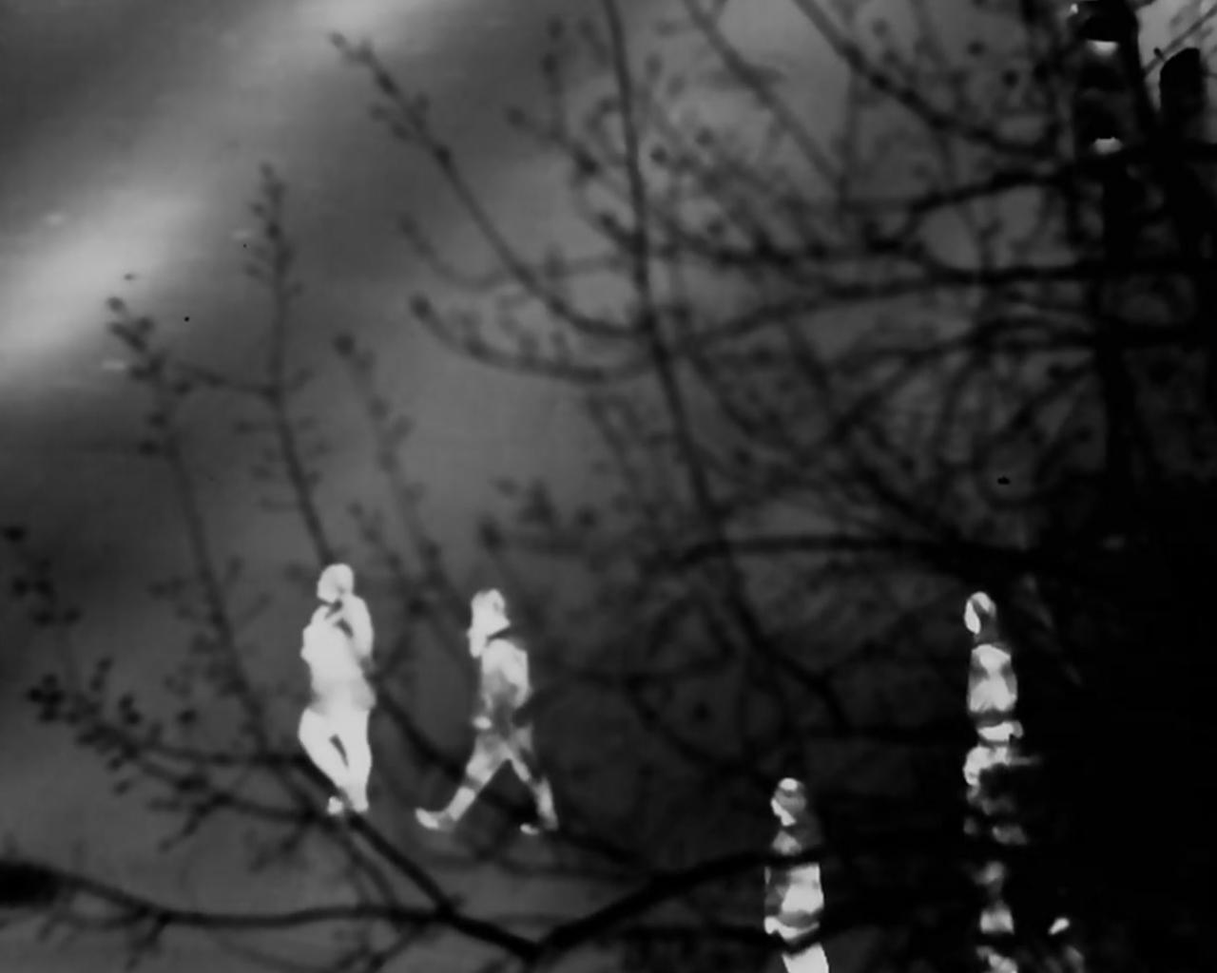person: (433, 589, 557, 825), (300, 569, 380, 806), (758, 773, 840, 958), (961, 592, 1030, 796)
